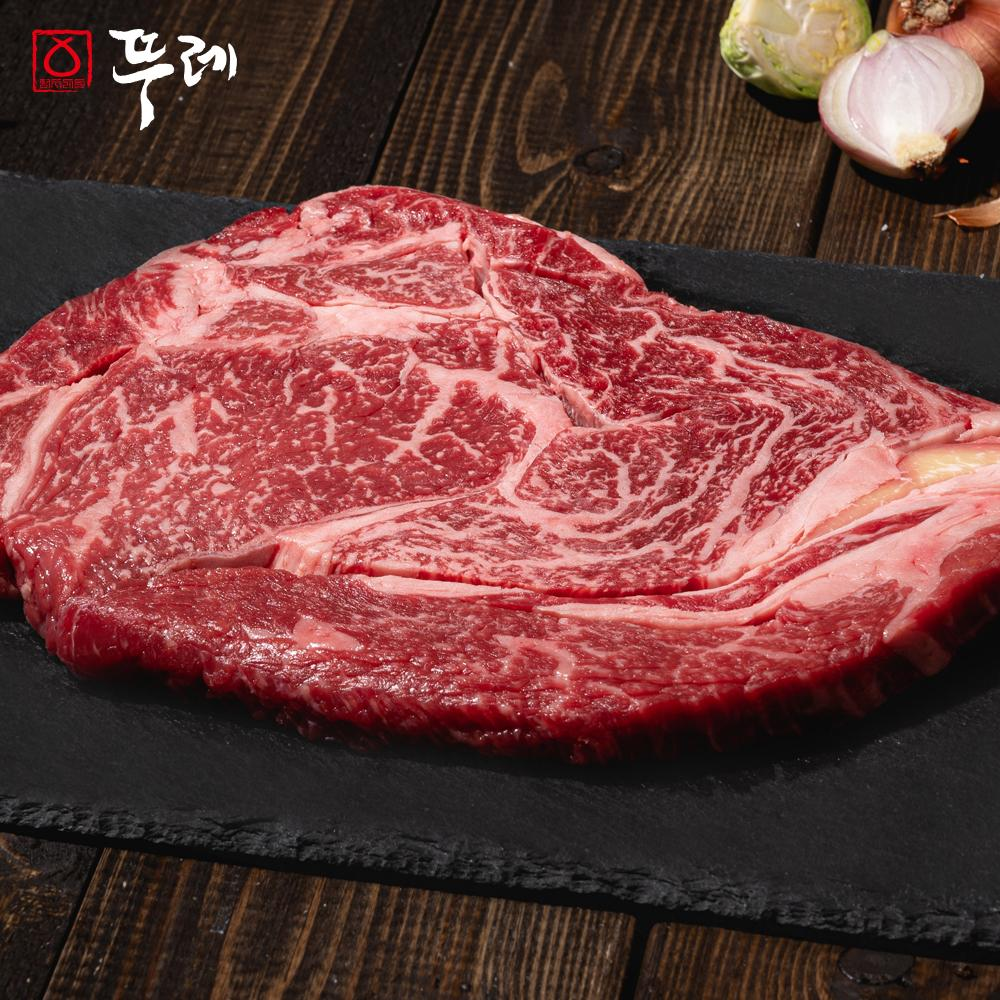beef: (205, 411, 1000, 1000)
